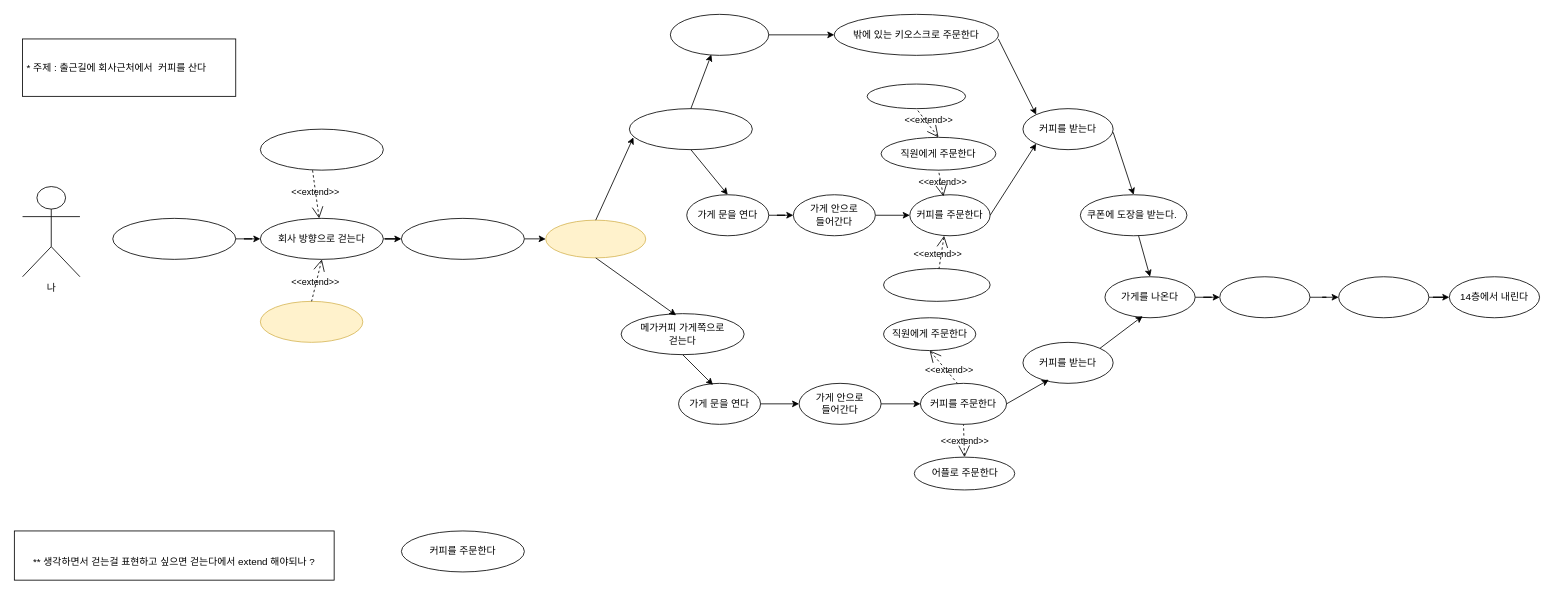
Some shapes in this 1554 by 595 pixel diagram are drawn without their labels. Here are the shapes that lost their labels. From the top down, the centre of each, then its label:
the point at 719,34: 문앞에서 멈춘다
the point at 916,96: 쿠폰으로 주문한다
the point at 321,149: 음악들으면서 걷는다 (생각나중에)
the point at 690,129: 국민우유 가게쪽으로 걷는다
the point at 174,238: 가양역 지하철역에서 나온다
the point at 462,238: 회사 맞은편 신호등에서 멈춘다
the point at 595,238: 어느 가게로 갈지 생각한다(결정)
the point at 936,284: 키오스크로 주문한다
the point at 1264,297: 엘레베이터를 타러 간다
the point at 1383,297: 엘레베이터를 탄다
the point at 311,321: 어느 가게로 갈지 생각하면서 걷는다
